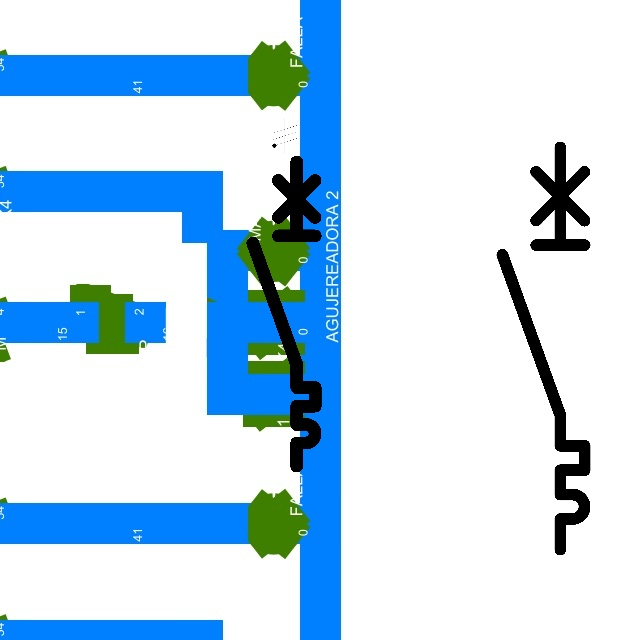interruptor_termomagnetico: (492, 137, 595, 560), (245, 154, 323, 474)
